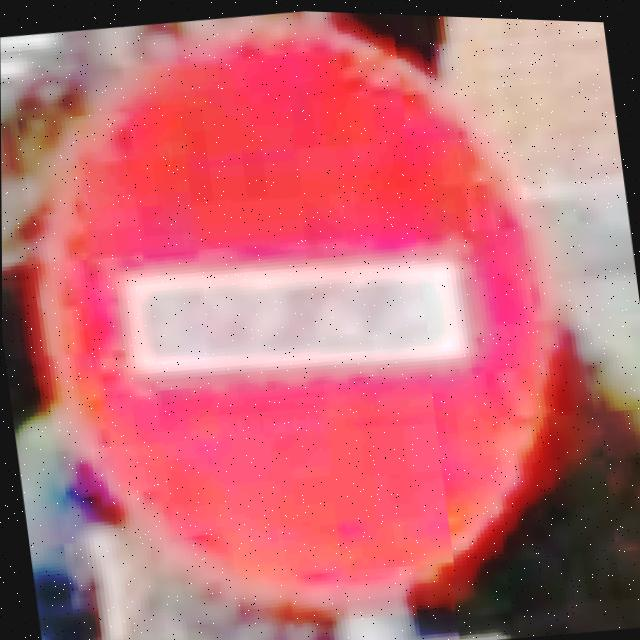noentry: (0, 0, 599, 640)
